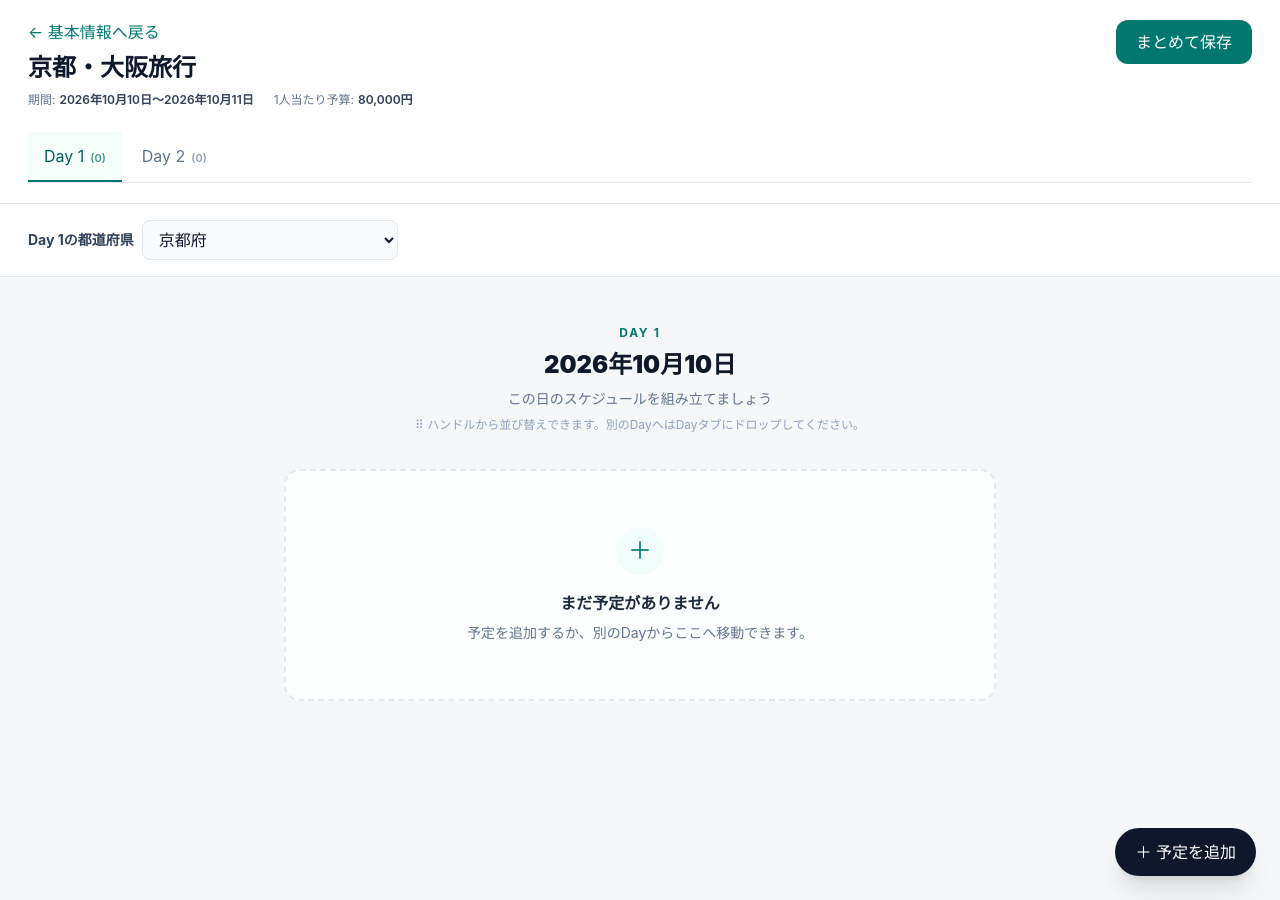
旅行プラン最終保存 › 保存前エラーではAPIを呼ばず修正対象Dayを表示する
The width and height of the screenshot is (1280, 900).
Click the button "まとめて保存" at (1184, 42), box [1116,20,1252,64]
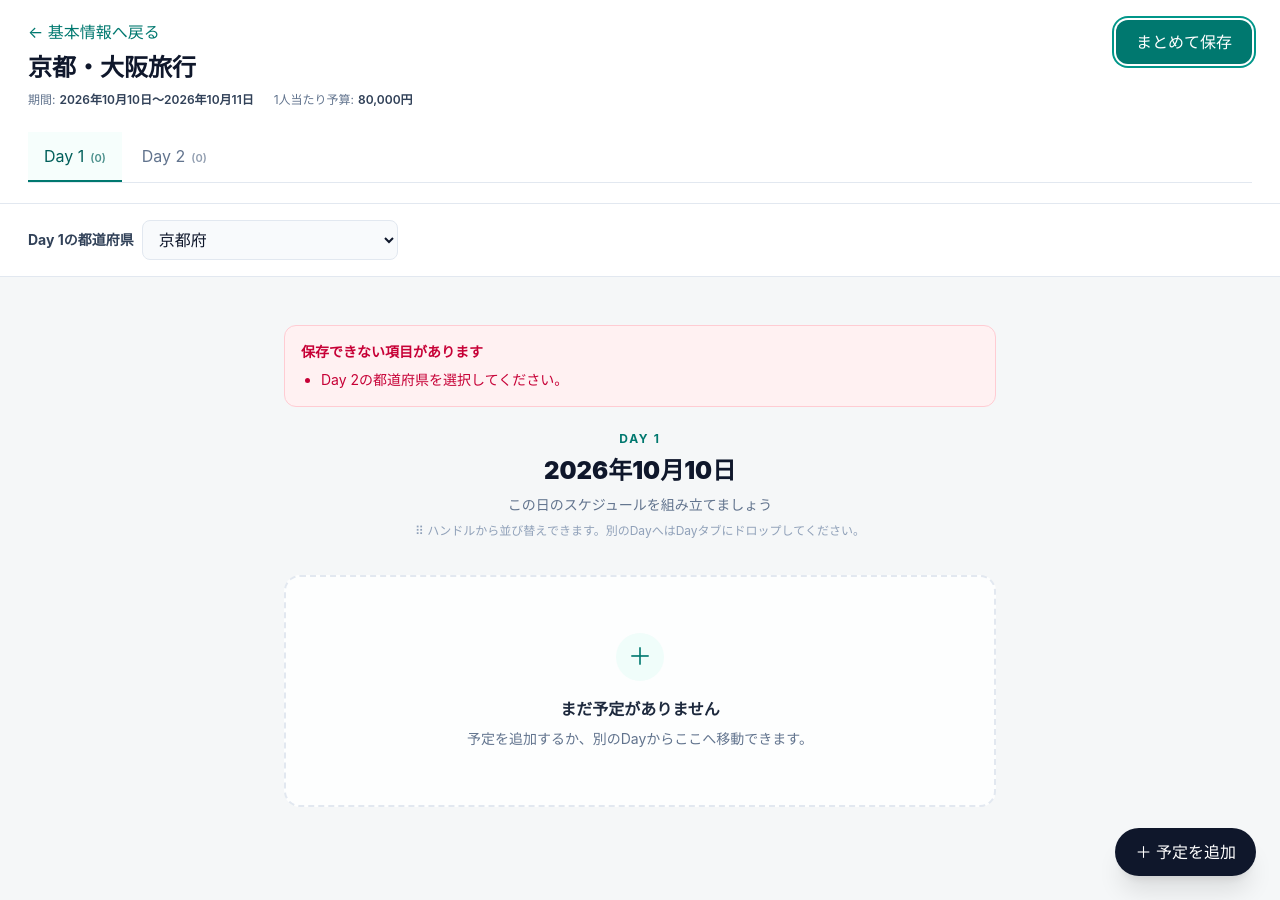
expect the list item "Day 2の都道府県を選択してください。" is shown: met, box [321,371,568,388]
